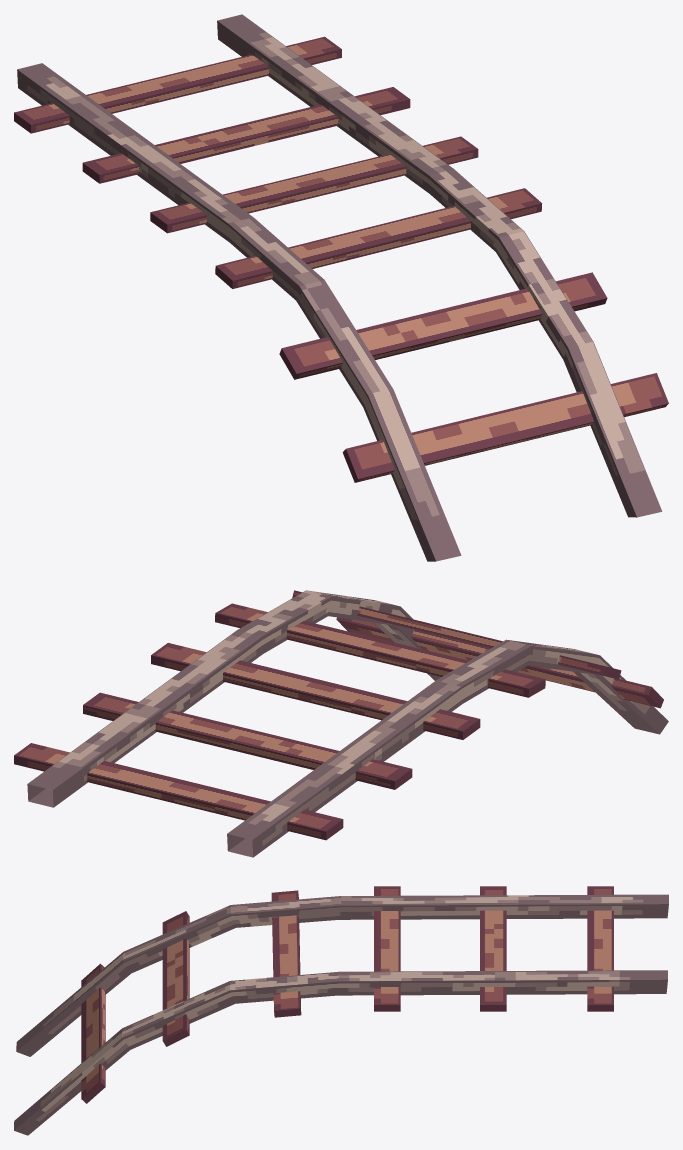
File: RailDown.fbx
3 renders of one model, top to bottom at view 1: azimuth 30°, elevation 25°; view 2: azimuth 150°, elevation 25°; view 3: azimuth 270°, elevation 25°, orthographic. The views are drawn at different scales.
Visible parts, largest first — view 1: RailDown; view 2: RailDown; view 3: RailDown.
Part boxes in pixels (x1,y1,x2,y2): RailDown: (14, 14, 668, 561); RailDown: (14, 590, 668, 857); RailDown: (14, 886, 668, 1135).
Size of the model in its own units: 104 by 61.5 by 235.
